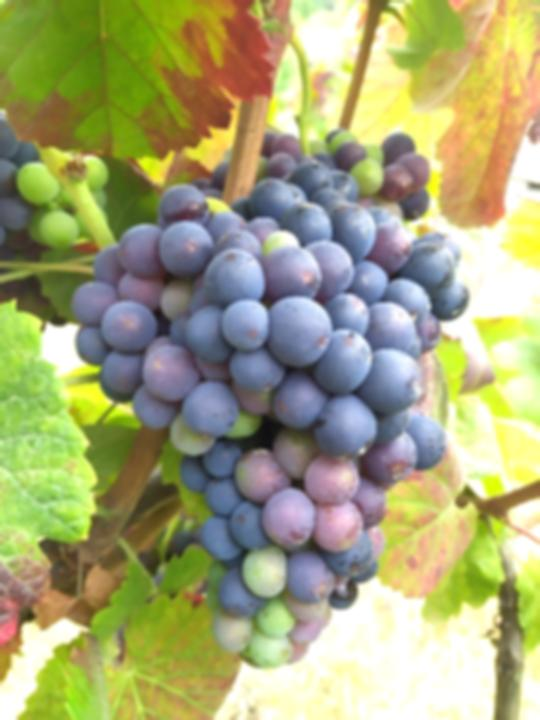grape: (69, 176, 470, 667)
